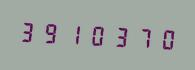nine: (40, 17, 62, 48)
one: (63, 18, 85, 49)
seven: (132, 21, 154, 52)
three: (17, 15, 39, 46), (109, 20, 131, 51)
zero: (86, 19, 108, 50), (155, 23, 177, 54)
